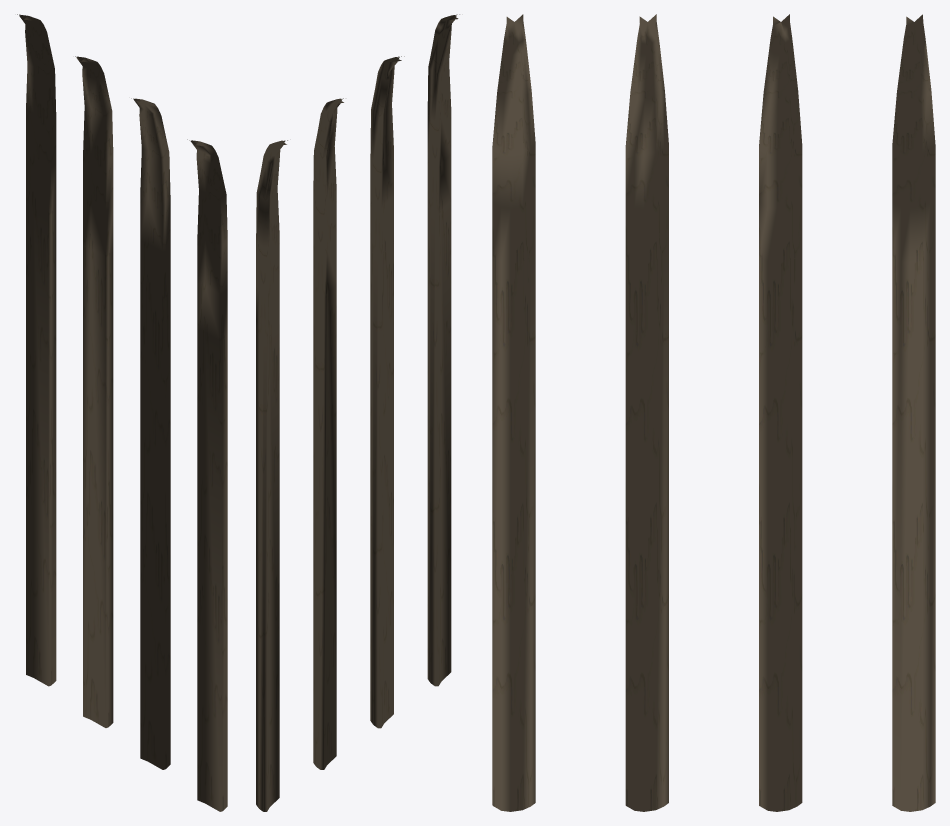
Rendered from stg220_MotChocoA_11.obj.
3 views of the same model, side by side, from view 1: azimuth 30°, elevation 25°; view 2: azimuth 150°, elevation 25°; view 3: azimuth 270°, elevation 25° (orthographic). The views are drawn at different scales.
Visible parts, largest first — view 1: polygon1, polygon2, polygon0, polygon3; view 2: polygon0, polygon1, polygon2, polygon3; view 3: polygon0, polygon1, polygon2, polygon3.
Boxes of the visible parts, left/top/right/bottom form: polygon1: left=131, top=98, right=170, bottom=769; polygon2: left=75, top=56, right=113, bottom=727; polygon0: left=187, top=139, right=227, bottom=811; polygon3: left=17, top=14, right=56, bottom=686; polygon0: left=427, top=14, right=459, bottom=686; polygon1: left=370, top=56, right=404, bottom=728; polygon2: left=313, top=98, right=343, bottom=769; polygon3: left=256, top=140, right=287, bottom=811; polygon0: left=492, top=14, right=535, bottom=811; polygon1: left=625, top=14, right=668, bottom=811; polygon2: left=759, top=14, right=802, bottom=811; polygon3: left=892, top=14, right=935, bottom=811.
Size of the model in its own units: 56.04 by 1031 by 532.
1 material, 1 textured.
